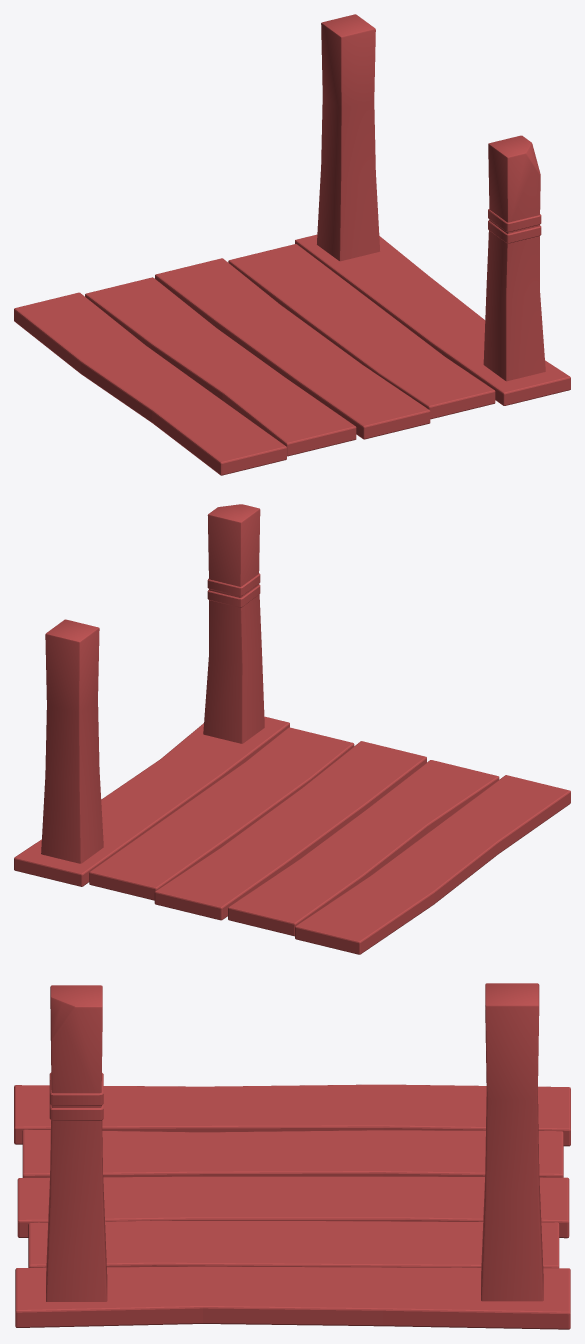
File: pont_modular.fbx
The picture shows the model from 3 angles, top to bottom: view 1: azimuth 30°, elevation 25°; view 2: azimuth 150°, elevation 25°; view 3: azimuth 270°, elevation 25°; orthographic projection. The views are drawn at different scales.
Parts seen in each view (by area): view 1: pont_planche05, pont_planche03, pont_planche04, pont_planche02, pont_pilier02, pont_pilier01, pont_planche01; view 2: pont_planche05, pont_planche03, pont_planche04, pont_planche02, pont_pilier02, pont_pilier01, pont_planche01; view 3: pont_planche01, pont_planche05, pont_planche03, pont_planche04, pont_planche02, pont_pilier02, pont_pilier01.
Part boxes in pixels (<box>): pont_planche05: <box>14,292,286,475</box>; pont_planche03: <box>155,258,430,439</box>; pont_planche04: <box>85,277,356,456</box>; pont_planche02: <box>228,244,495,419</box>; pont_pilier02: <box>317,14,379,261</box>; pont_pilier01: <box>483,135,545,381</box>; pont_planche01: <box>295,234,570,405</box>; pont_planche05: <box>295,775,570,954</box>; pont_planche03: <box>154,741,426,920</box>; pont_planche04: <box>228,760,499,936</box>; pont_planche02: <box>89,727,354,900</box>; pont_pilier02: <box>41,619,103,863</box>; pont_pilier01: <box>203,504,264,743</box>; pont_planche01: <box>14,716,289,886</box>; pont_planche01: <box>15,1266,570,1329</box>; pont_planche05: <box>14,1084,570,1146</box>; pont_planche03: <box>17,1176,569,1238</box>; pont_planche04: <box>22,1129,563,1177</box>; pont_planche02: <box>28,1220,559,1268</box>; pont_pilier02: <box>481,983,543,1301</box>; pont_pilier01: <box>46,985,107,1301</box>.
Bounding box in the file's own units: 2 × 1.27 × 2.06.
